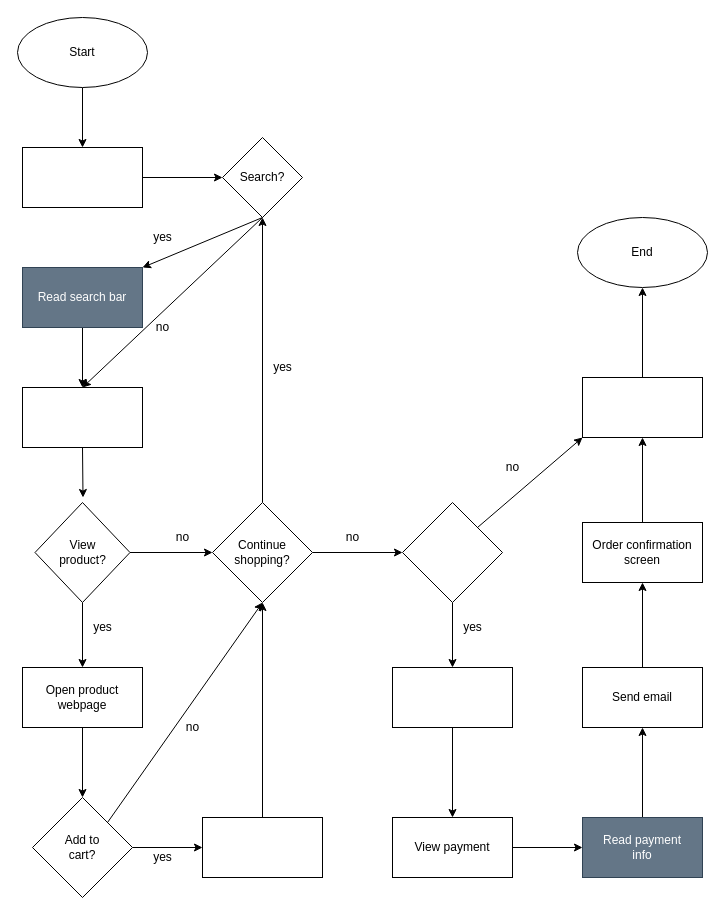
This 725x915 diagram has some shape labels left out. The shapes that lost their labels are listed below. From the top down, each one's centre as x and y in pixels, then its label:
At pixel 82 177: "User enters page".
At pixel 82 417: "Explore products".
At pixel 642 407: "User leaves page".
At pixel 452 552: "Checkout?".
At pixel 452 697: "View cart".
At pixel 262 847: "Send notification".
